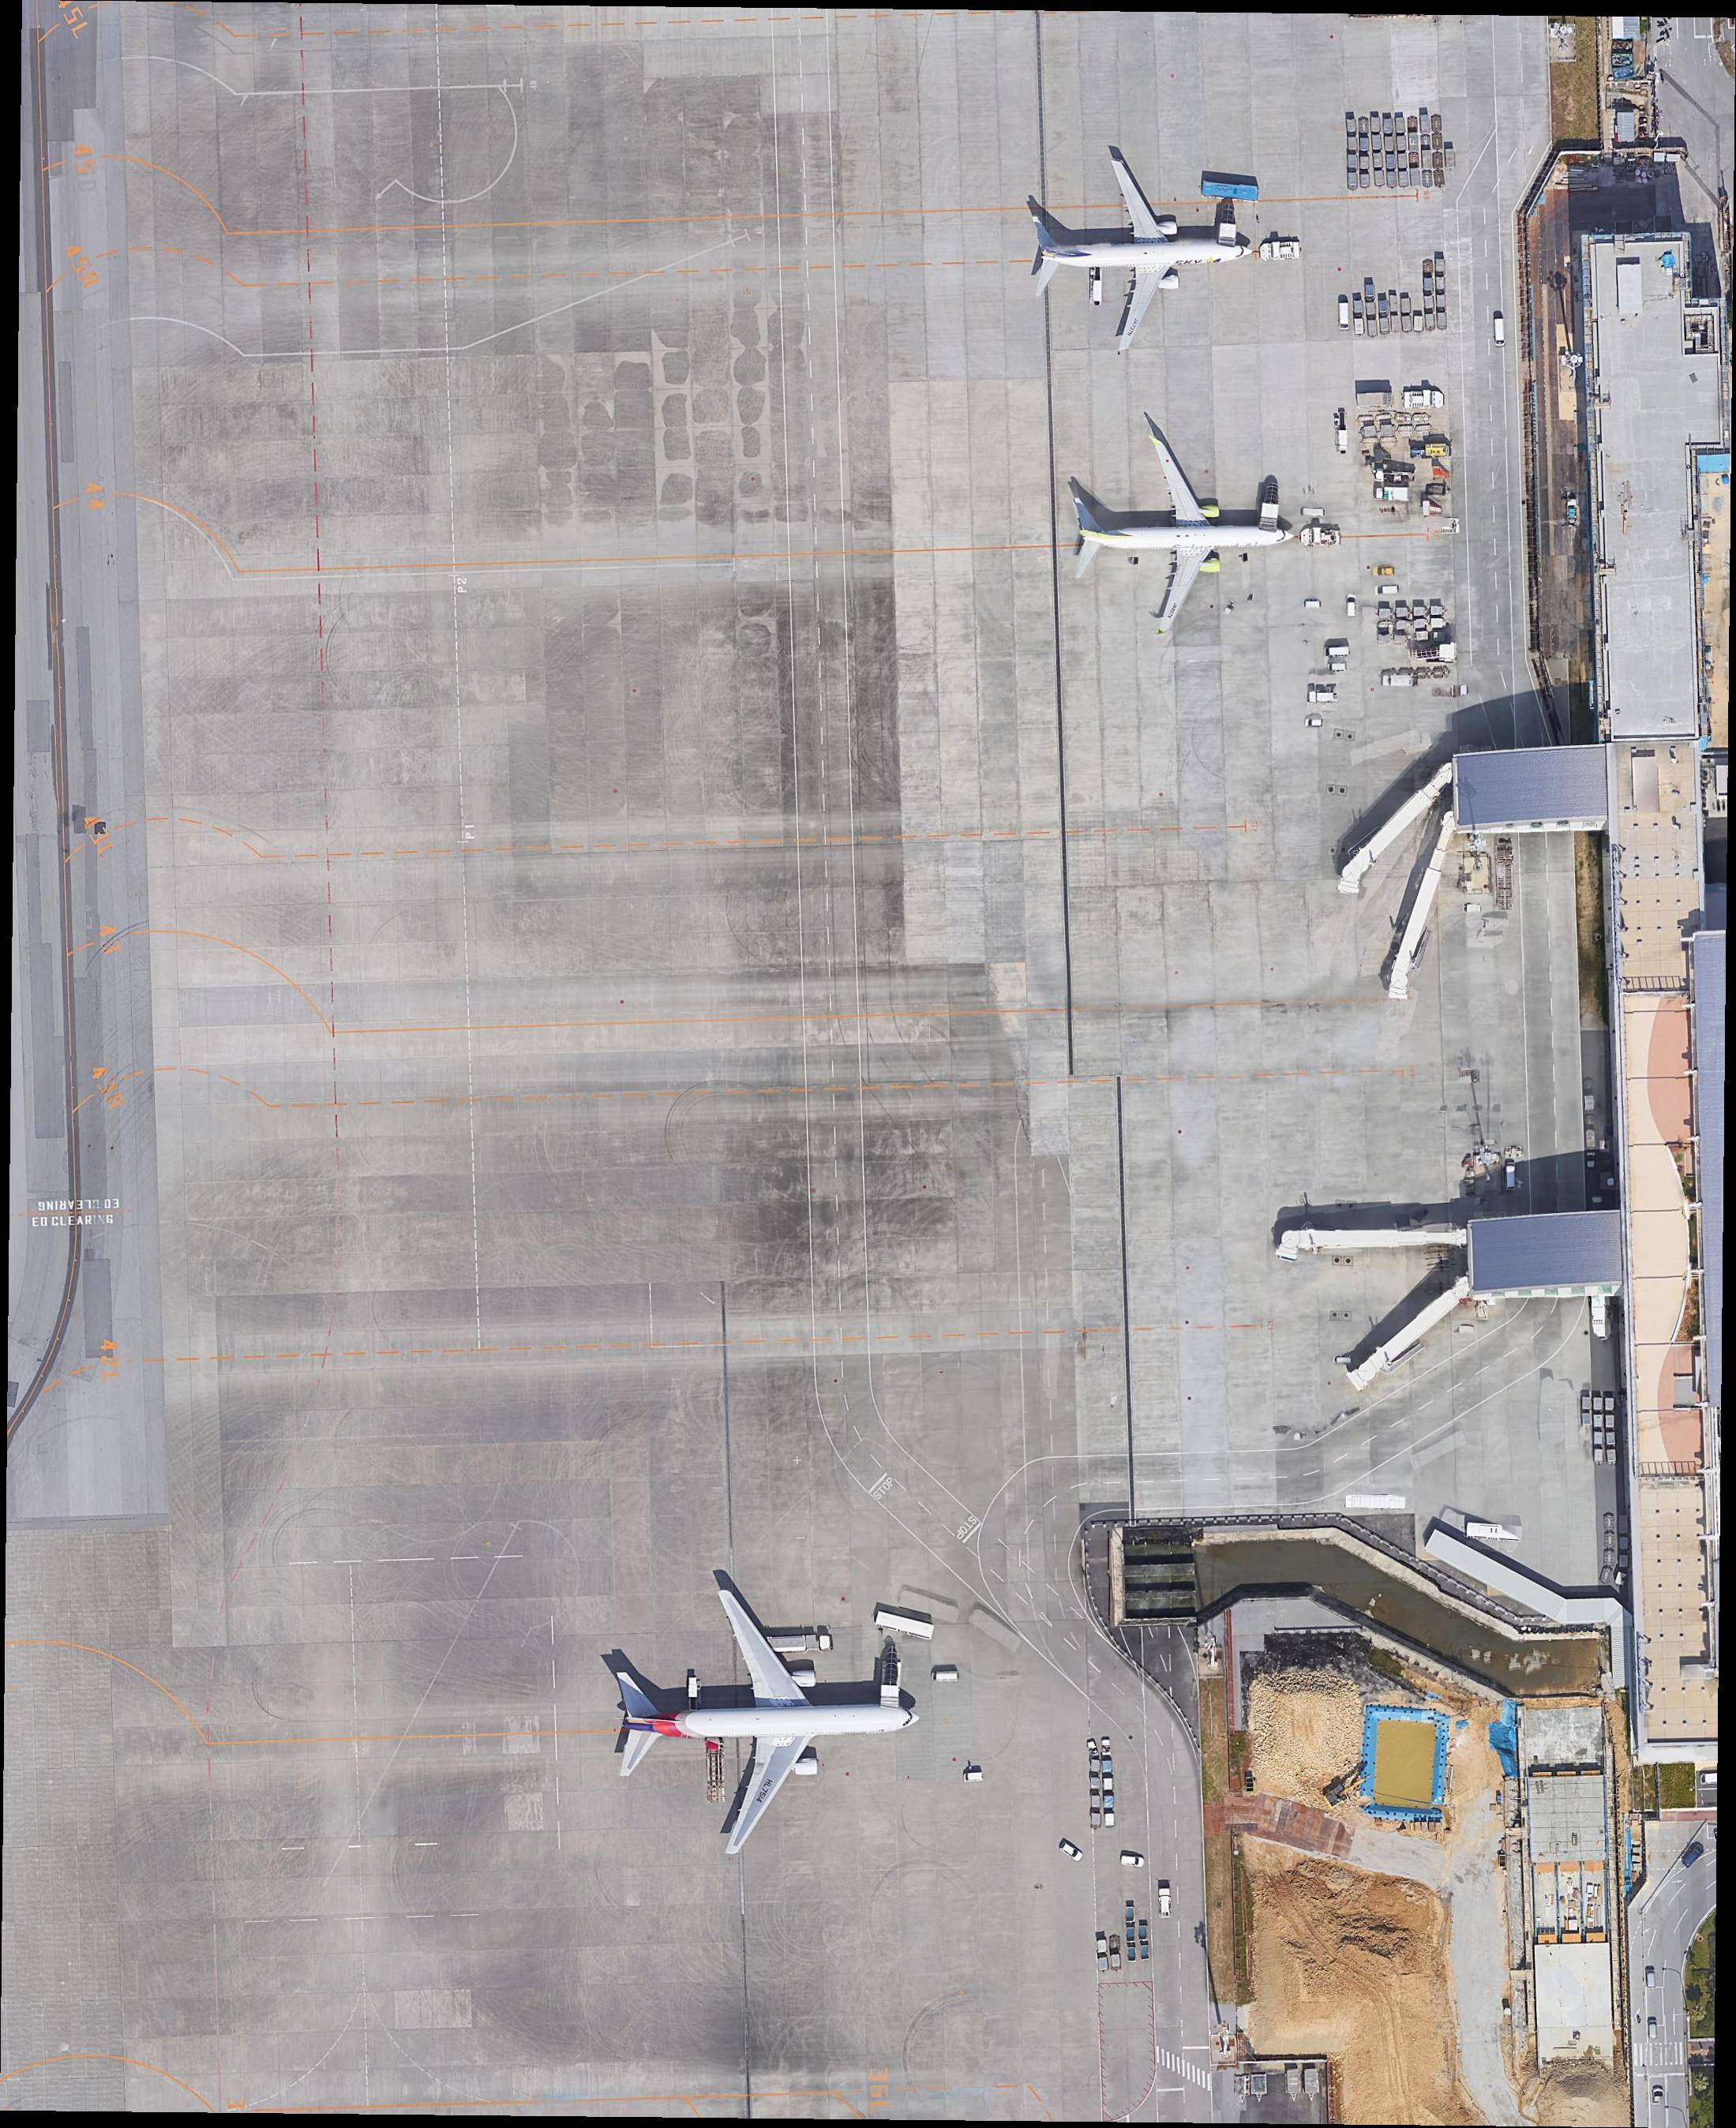plane: (587, 1554, 933, 1863), (1002, 140, 1264, 355), (1052, 410, 1294, 642)
